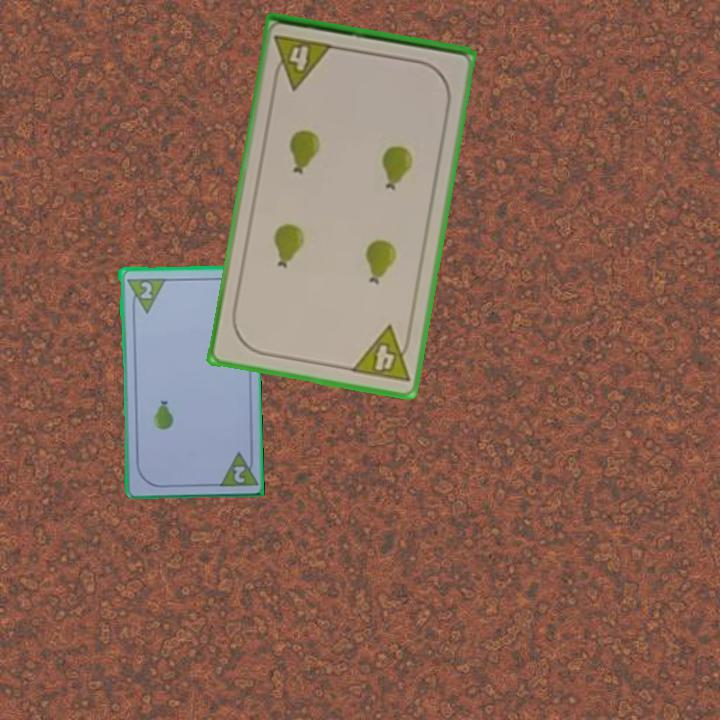2p: (230, 462, 248, 486), (137, 278, 155, 301)
4p: (347, 322, 415, 386), (269, 32, 336, 92)
